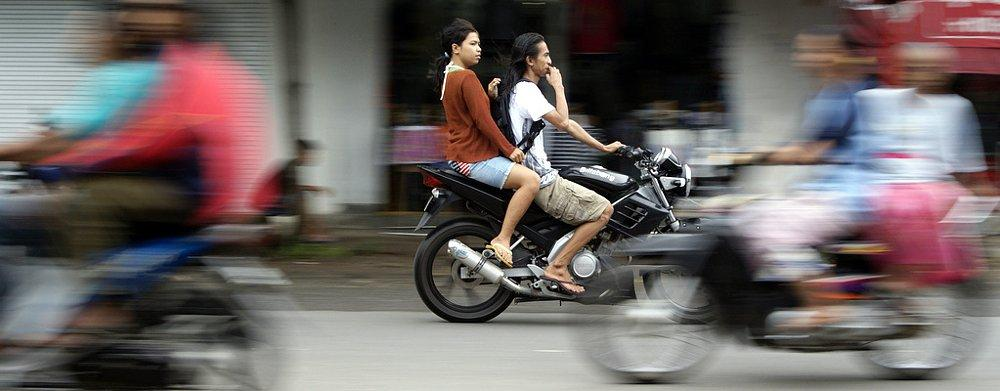nohelmet: (507, 22, 571, 95), (424, 11, 485, 79)
